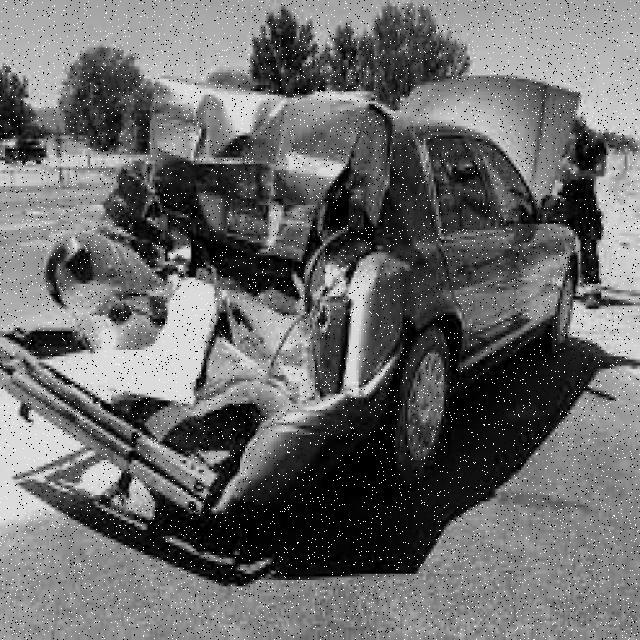car damage: (0, 70, 408, 535)
